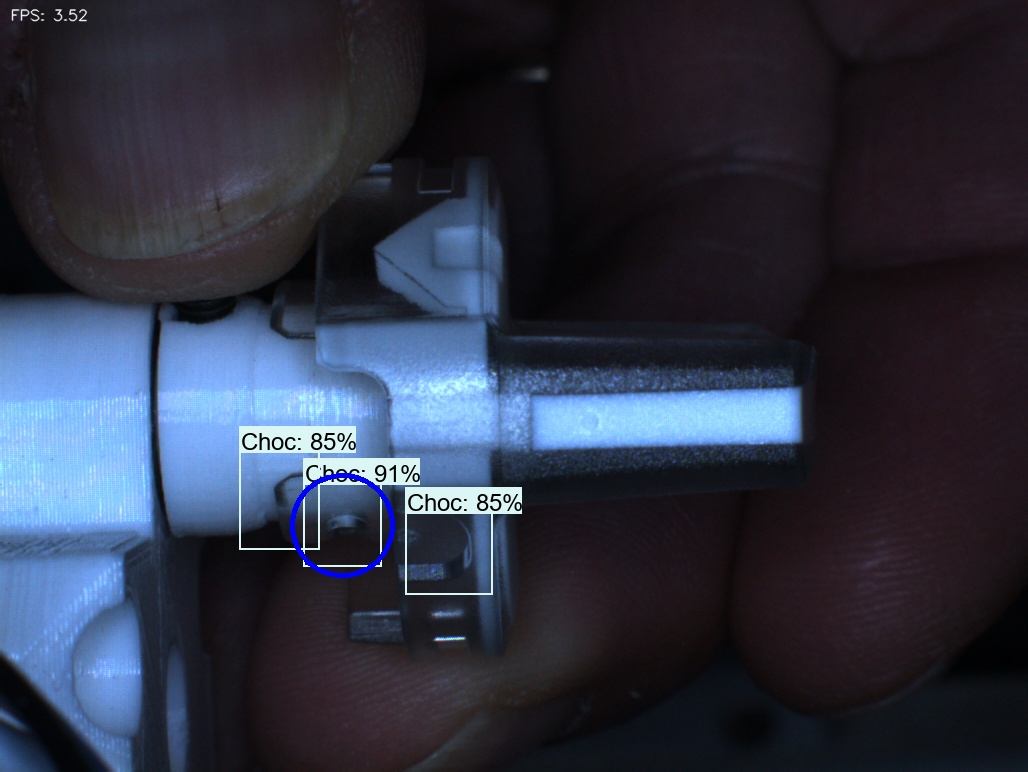DentOk: (341, 218, 423, 304)
